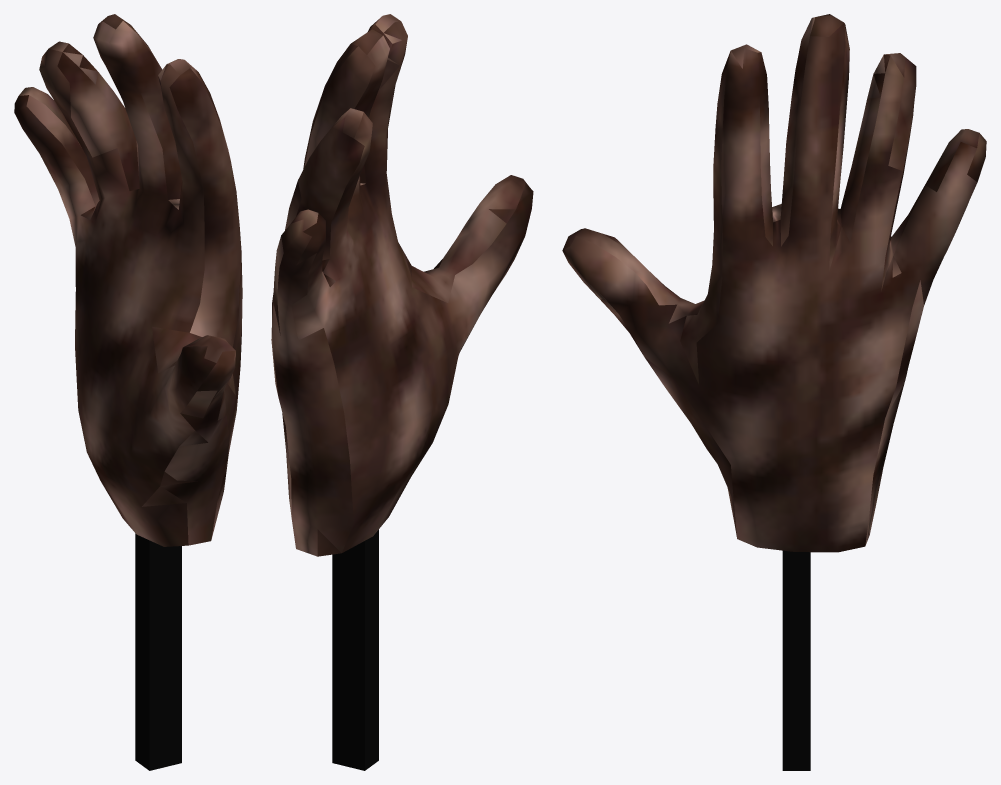
Rendered from Slap_8.obj.
3 views of the same model, side by side, from view 1: azimuth 30°, elevation 25°; view 2: azimuth 150°, elevation 25°; view 3: azimuth 270°, elevation 25° (orthographic).
Visible parts, largest first — view 1: Handle1, Stick1; view 2: Handle1, Stick1; view 3: Handle1, Stick1.
Part boxes in pixels (box(x1,y1,x2,y2)): Handle1: box(14, 14, 242, 546); Stick1: box(135, 533, 181, 770); Handle1: box(271, 14, 533, 556); Stick1: box(332, 529, 378, 770); Handle1: box(562, 14, 986, 552); Stick1: box(782, 550, 810, 770).
Bounding box in the file's own units: 0.9159 × 4.7 × 2.46.
